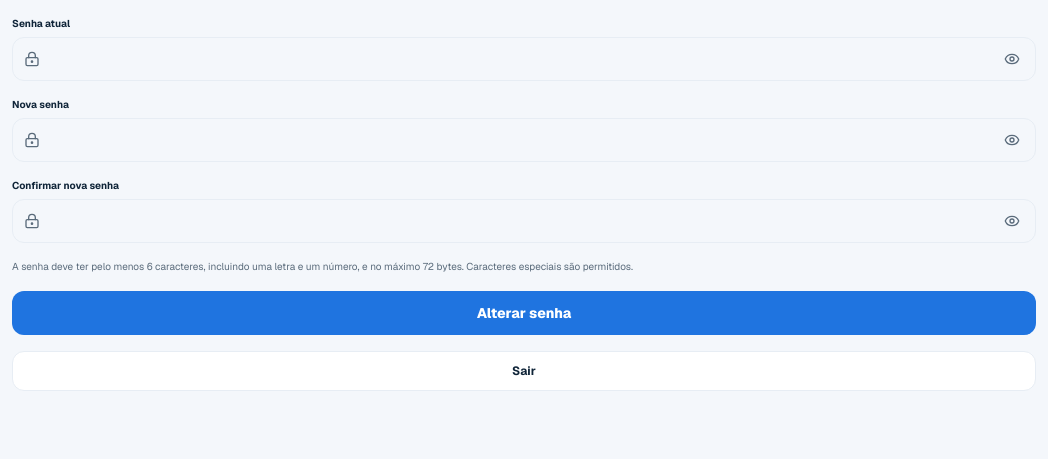
Test case: ChangePasswordForm › should_reject_password_under_6_characters_before_request
Step 1. Type "SenhaInicial!2026" into the password field labelled "Senha atual" → x=524, y=59, box x1=12 y1=37 x2=1036 y2=81
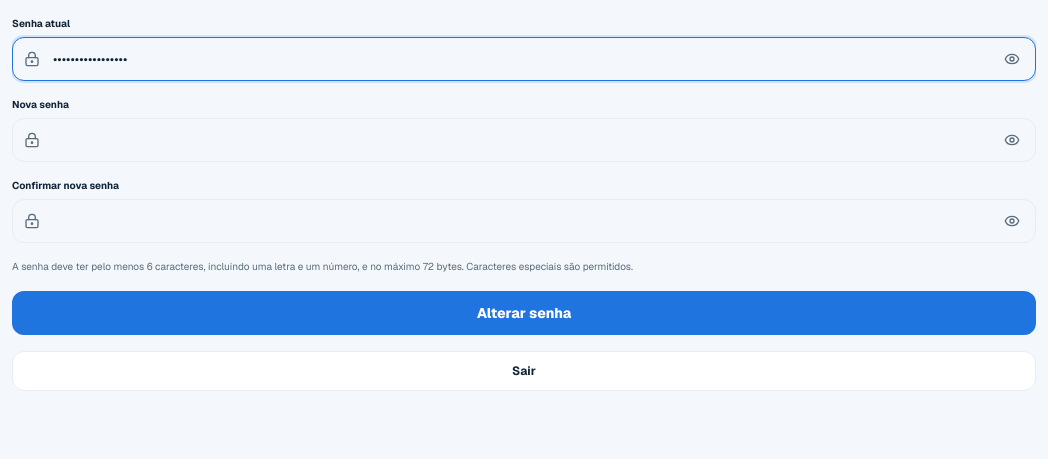
Step 2. Type "ab12" into the password field labelled "Nova senha" → x=524, y=140, box x1=12 y1=118 x2=1036 y2=162
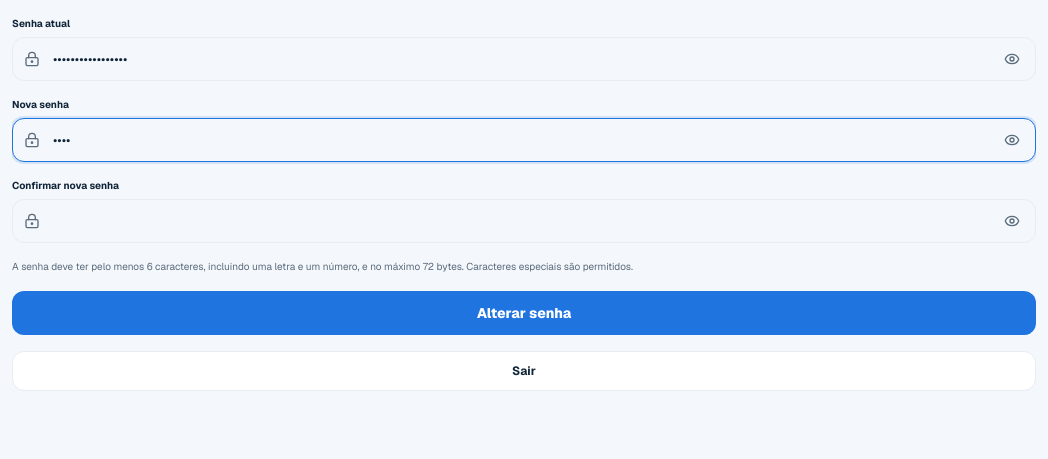
Step 3. Type "ab12" into the password field labelled "Confirmar nova senha" → x=524, y=221, box x1=12 y1=199 x2=1036 y2=243
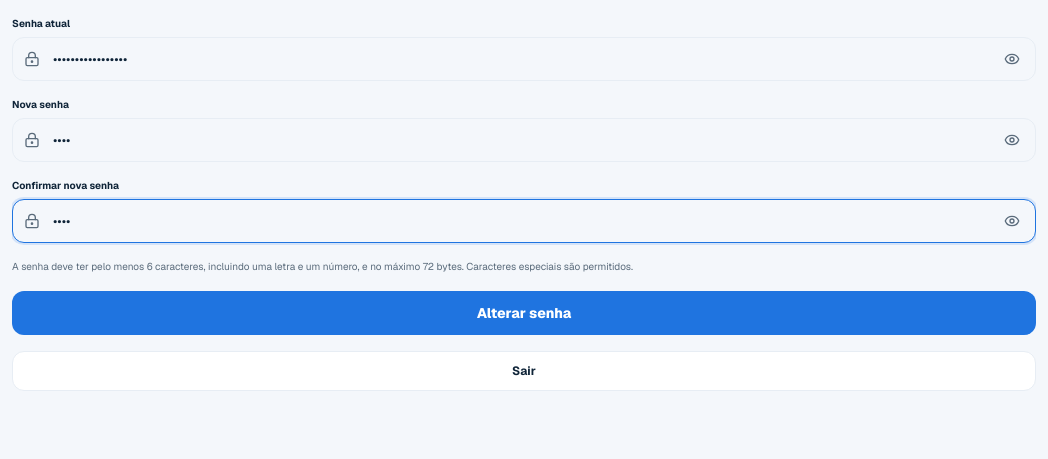
Step 4. Click the button "Alterar senha" → x=524, y=313, box x1=12 y1=291 x2=1036 y2=335
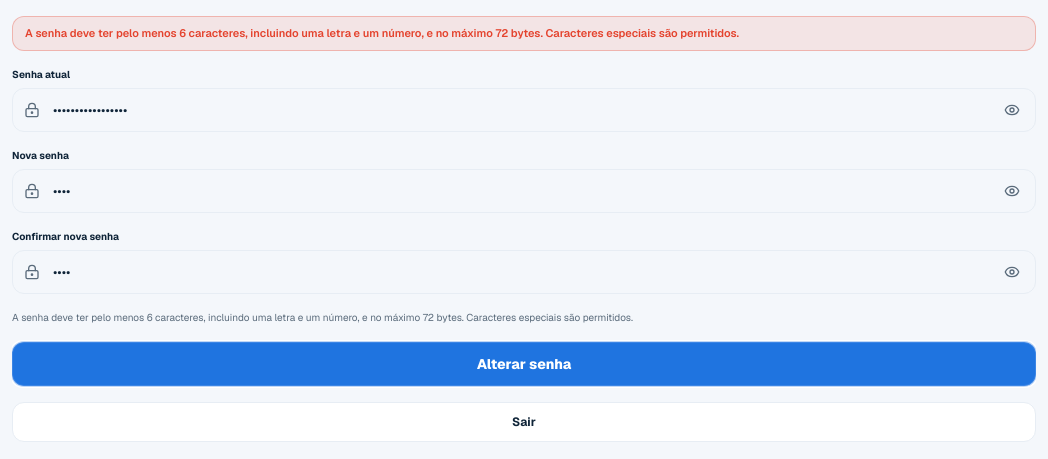
Expected: the message shows "Caracteres especiais são permitidos.", x1=25 y1=26 x2=739 y2=40
